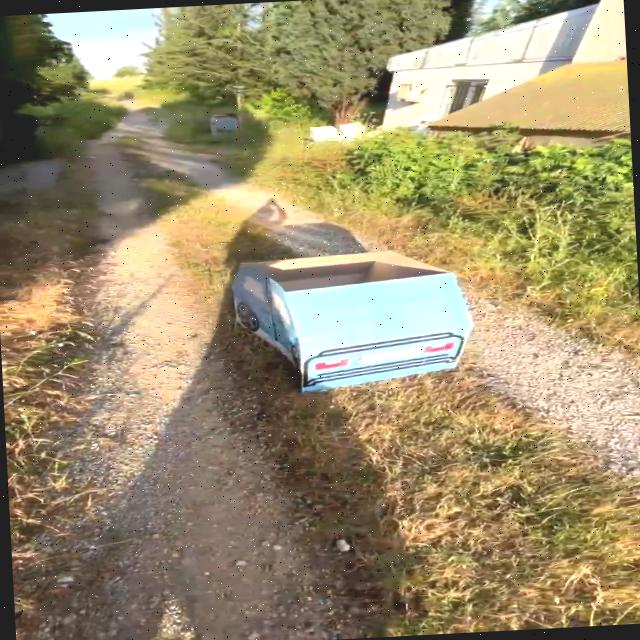blue_car: (188, 224, 510, 412)
